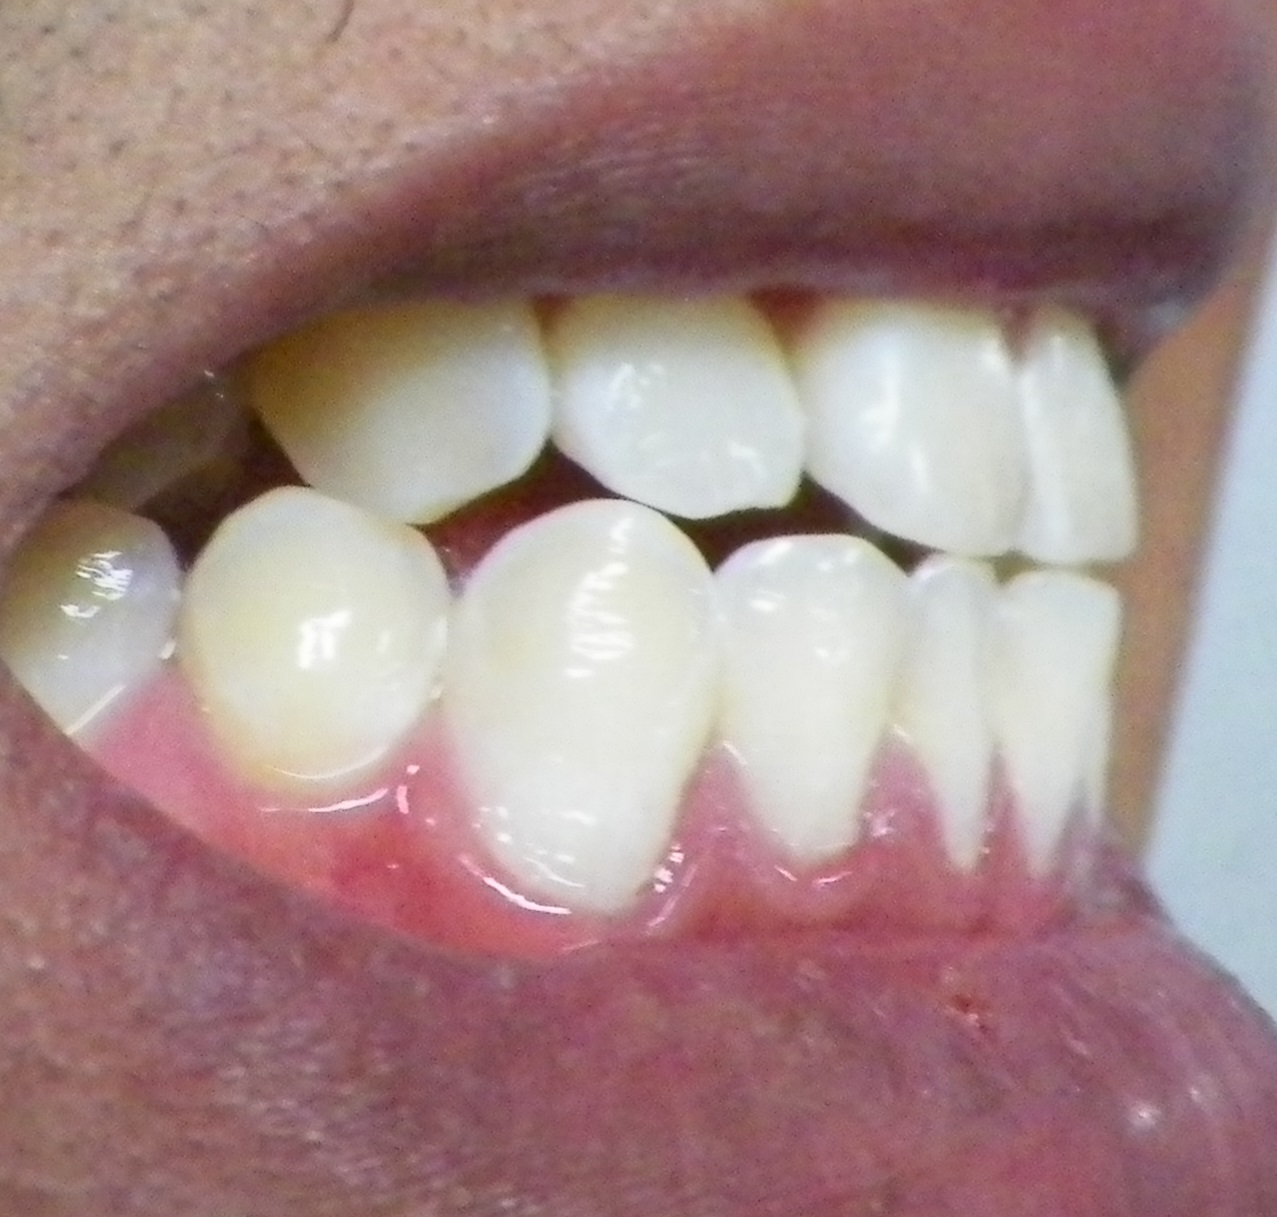boca: (1, 285, 1144, 910)
